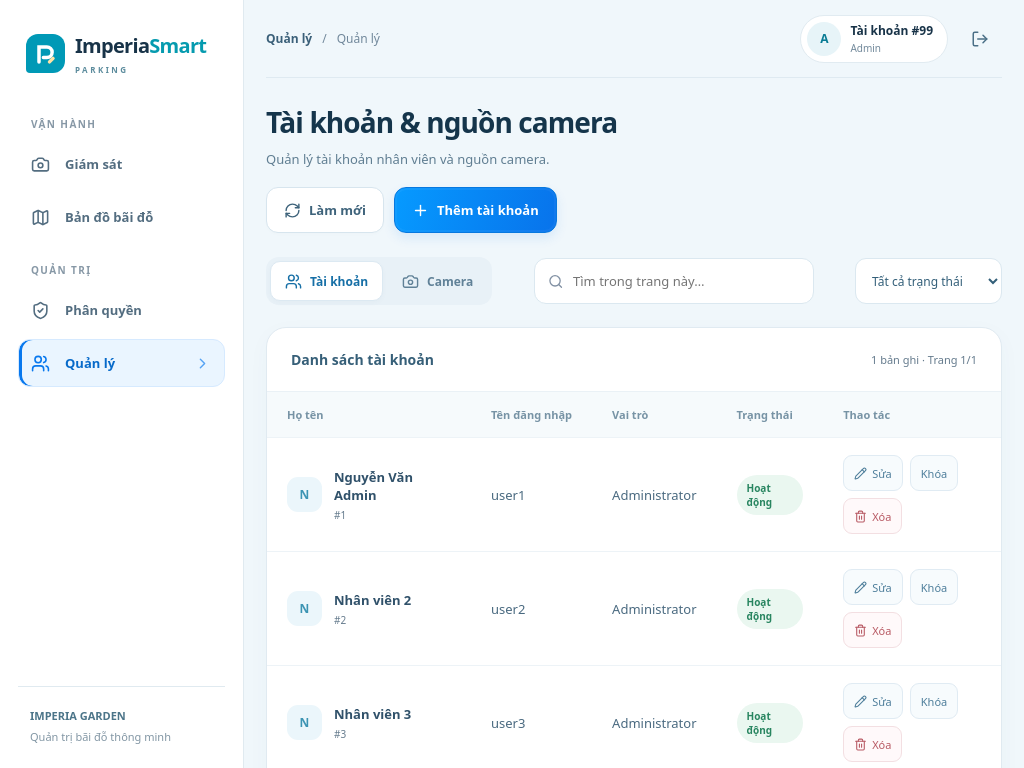
Scenario: management forms against mocked API only › preserves a camera when backend refuses deletion
Expected: the text "Nguyễn Văn Admin" is shown, [334, 468, 413, 504]
Click the button "Camera": point(438, 281) [387, 261, 488, 301]
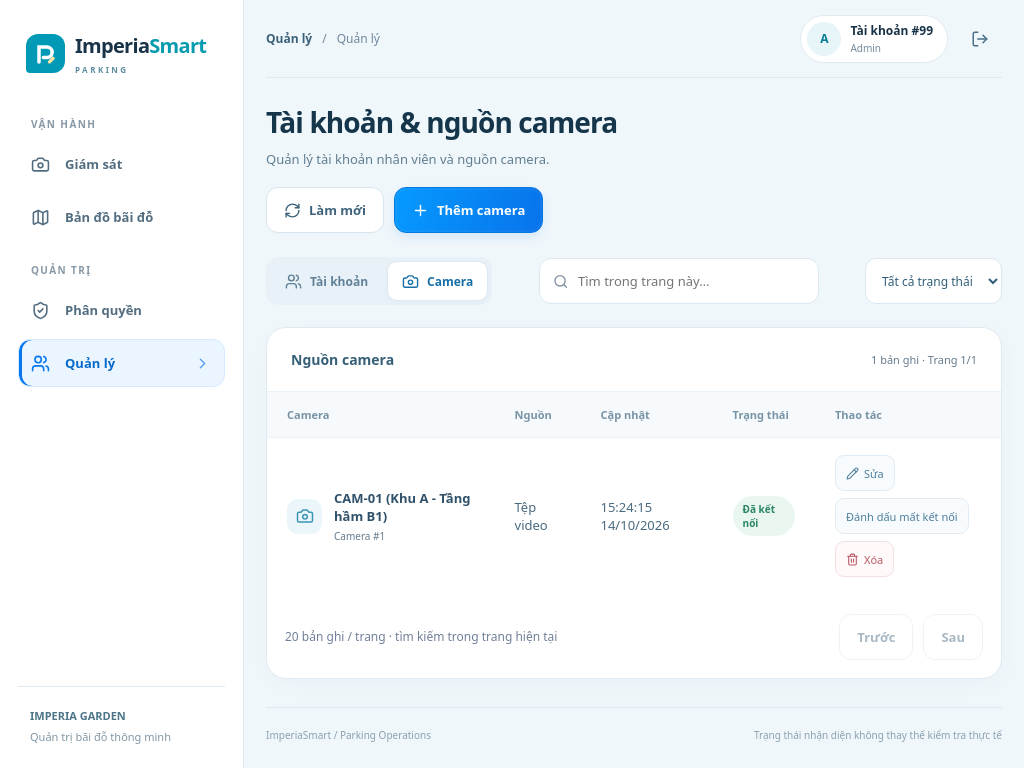
Click the button "Xóa": point(865, 559) [835, 541, 894, 577]
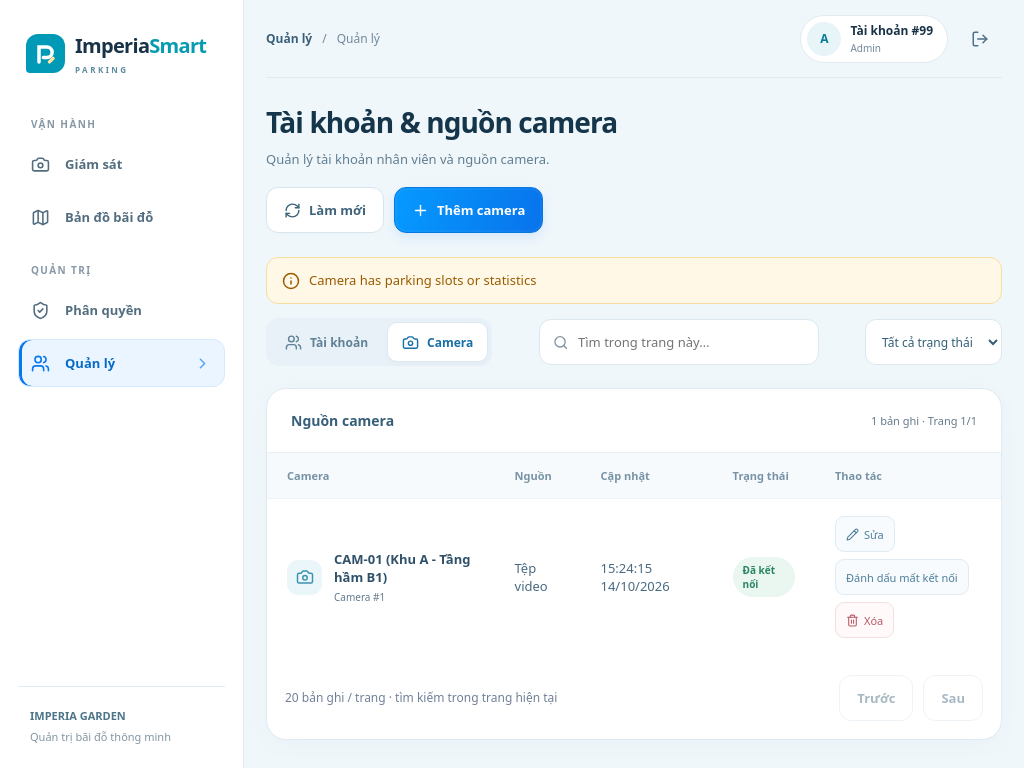
Now the text "CAM-01 (Khu A - Tầng hầm B1)" is shown, box [334, 550, 470, 586]
Now the text "Camera has parking slots or statistics" is shown, box [266, 257, 1002, 304]
